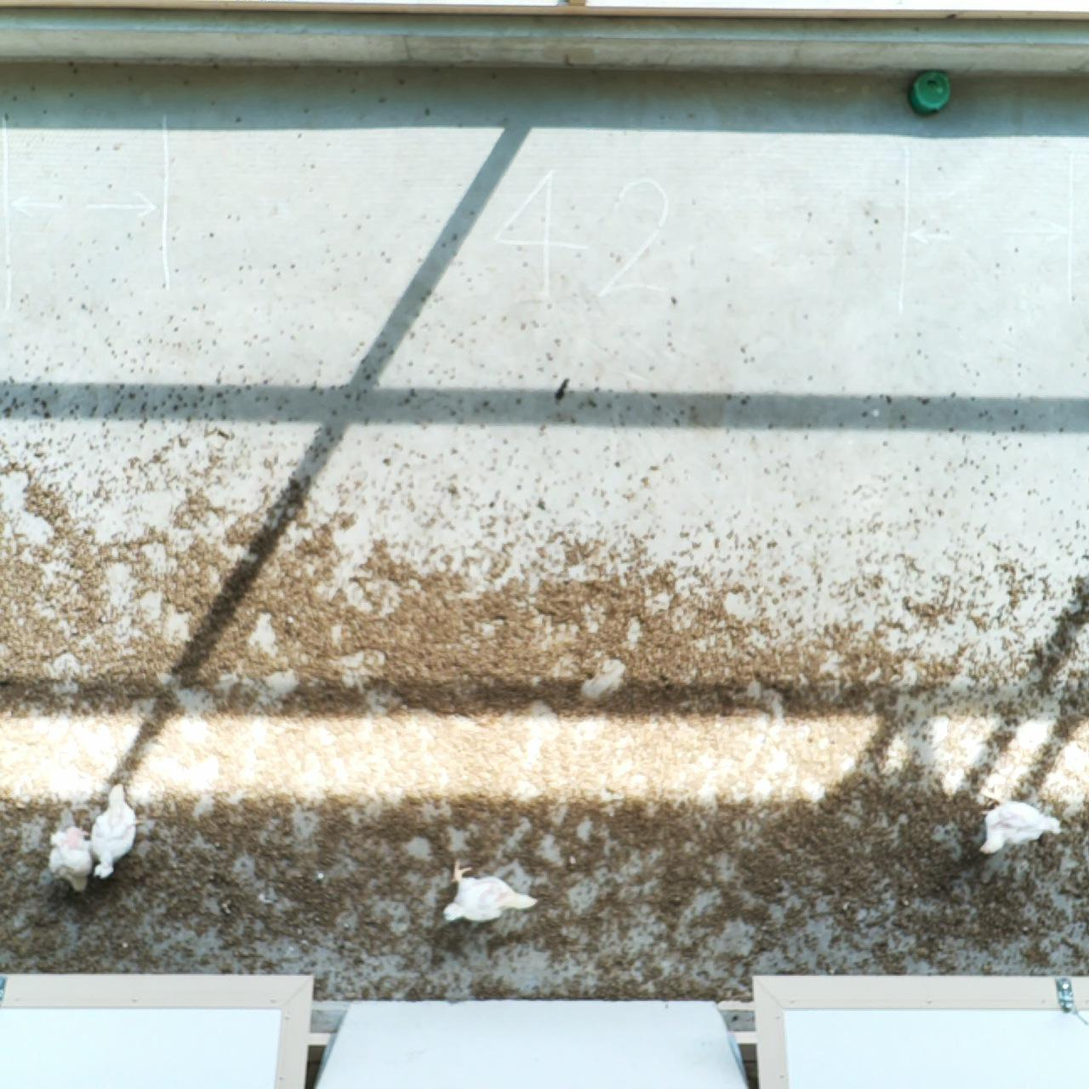chicken: (438, 854, 538, 931), (972, 792, 1067, 861), (90, 781, 150, 884), (43, 804, 104, 899)
